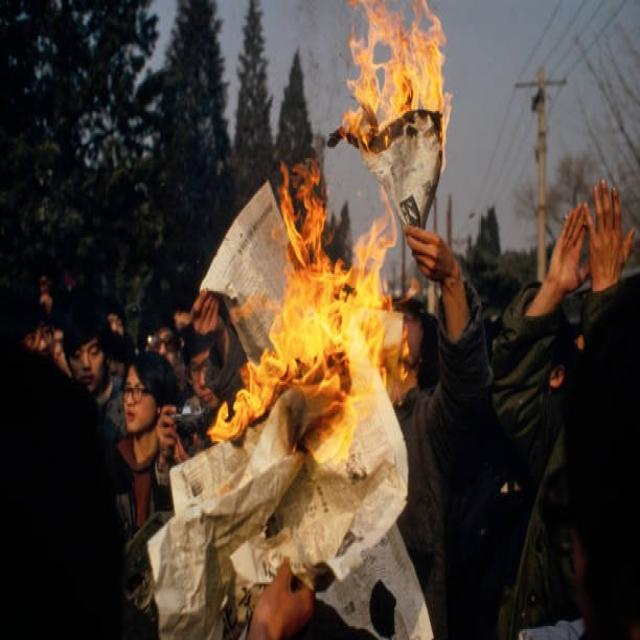fire: (278, 158, 395, 466), (383, 0, 453, 176), (207, 317, 299, 446), (339, 0, 382, 150)
